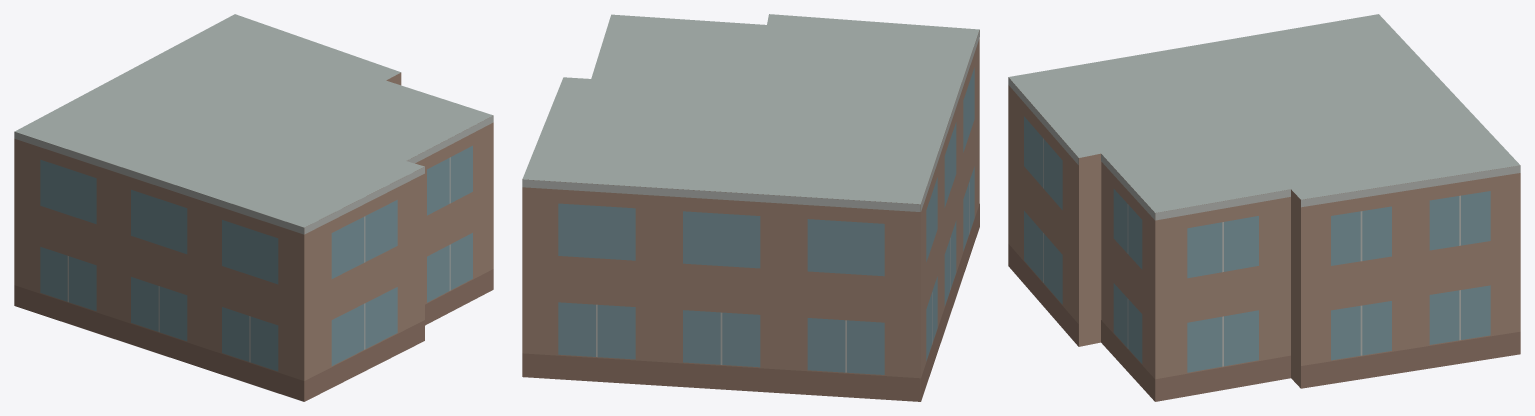
The model's file is survey-upis-32846610.glb.
3 renders of one model, left to right at view 1: azimuth 30°, elevation 25°; view 2: azimuth 150°, elevation 25°; view 3: azimuth 270°, elevation 25°, orthographic. The views are drawn at different scales.
Parts seen in each view (by area): view 1: survey-upis-32846610.tmp; view 2: survey-upis-32846610.tmp; view 3: survey-upis-32846610.tmp.
Boxes of the visible parts, bbox=[...] form: survey-upis-32846610.tmp: bbox=[14, 14, 493, 401]; survey-upis-32846610.tmp: bbox=[522, 14, 979, 401]; survey-upis-32846610.tmp: bbox=[1008, 14, 1520, 401].
Size of the model in its own units: 13.79 by 6.1 by 15.
